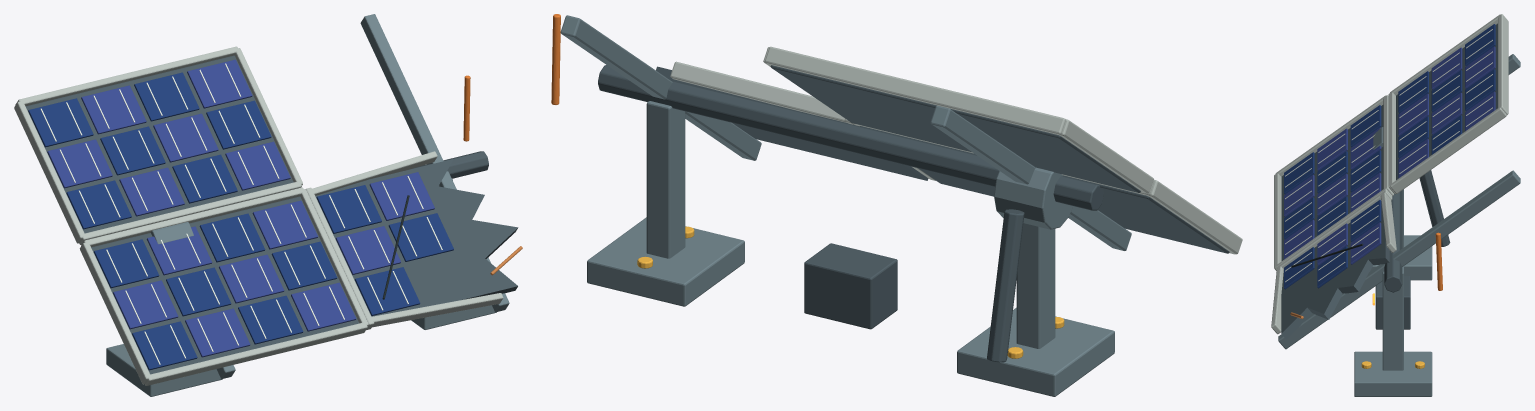
Rendered from solar_panel_rack_d2.glb.
3 renders of one model, left to right at view 1: azimuth 30°, elevation 25°; view 2: azimuth 150°, elevation 25°; view 3: azimuth 270°, elevation 25°, orthographic. The views are drawn at different scales.
Parts seen in each view (by area): view 1: JAGGED_PV_BACKING, PV_BACKING_001, PV_BACKING, REAR_MOUNTING_RAIL_001, PANEL_ALUMINUM_END_FRAME, PHOTOVOLTAIC_CELL_016, PHOTOVOLTAIC_CELL_010, PHOTOVOLTAIC_CELL_014, PHOTOVOLTAIC_CELL_019, PHOTOVOLTAIC_CELL_023, SURVIVING_PHOTOVOLTAIC_CELL_002, PHOTOVOLTAIC_CELL_001 (+36 smaller); view 2: TRACKING_AXLE, PV_BACKING_001, RACK_ANCHOR_FOOTING_001, RACK_ANCHOR_FOOTING, RACK_JUNCTION_BOX, TRACKING_SUPPORT_MAST_001, PANEL_ALUMINUM_END_FRAME_003, TRACKING_SUPPORT_MAST, REAR_MOUNTING_RAIL_001, PV_BACKING, REAR_MOUNTING_RAIL, TILT_ACTUATOR (+6 smaller); view 3: JAGGED_PV_BACKING, REAR_MOUNTING_RAIL_001, RACK_ANCHOR_FOOTING_001, TRACKING_SUPPORT_MAST_001, PANEL_ALUMINUM_SIDE_FRAME_004, TRACKING_AXLE, PV_BACKING, PANEL_ALUMINUM_END_FRAME_003, PV_BACKING_001, RACK_ANCHOR_FOOTING, TILT_ACTUATOR, RACK_JUNCTION_BOX (+39 smaller).
Part boxes in pixels (left/top/right/bottom): JAGGED_PV_BACKING: left=315, top=159, right=518, bottom=316; PV_BACKING_001: left=25, top=55, right=293, bottom=233; PV_BACKING: left=91, top=196, right=359, bottom=374; REAR_MOUNTING_RAIL_001: left=360, top=14, right=509, bottom=312; PANEL_ALUMINUM_END_FRAME: left=145, top=323, right=367, bottom=385; PHOTOVOLTAIC_CELL_016: left=100, top=126, right=165, bottom=175; PHOTOVOLTAIC_CELL_010: left=271, top=241, right=337, bottom=290; PHOTOVOLTAIC_CELL_014: left=28, top=98, right=93, bottom=147; PHOTOVOLTAIC_CELL_019: left=153, top=113, right=218, bottom=162; PHOTOVOLTAIC_CELL_023: left=187, top=59, right=252, bottom=108; SURVIVING_PHOTOVOLTAIC_CELL_002: left=316, top=185, right=381, bottom=233; PHOTOVOLTAIC_CELL_001: left=113, top=280, right=178, bottom=329; TRACKING_AXLE: left=598, top=65, right=1103, bottom=210; PV_BACKING_001: left=770, top=65, right=1140, bottom=192; RACK_ANCHOR_FOOTING_001: left=587, top=217, right=744, bottom=306; RACK_ANCHOR_FOOTING: left=957, top=307, right=1114, bottom=396; RACK_JUNCTION_BOX: left=804, top=243, right=897, bottom=329; TRACKING_SUPPORT_MAST_001: left=646, top=101, right=685, bottom=258; PANEL_ALUMINUM_END_FRAME_003: left=765, top=46, right=1065, bottom=134; TRACKING_SUPPORT_MAST: left=1016, top=223, right=1055, bottom=348; REAR_MOUNTING_RAIL_001: left=560, top=15, right=761, bottom=160; PV_BACKING: left=859, top=126, right=1229, bottom=253; REAR_MOUNTING_RAIL: left=930, top=105, right=1131, bottom=250; TILT_ACTUATOR: left=987, top=209, right=1024, bottom=362; JAGGED_PV_BACKING: left=1281, top=203, right=1389, bottom=339; REAR_MOUNTING_RAIL_001: left=1278, top=170, right=1520, bottom=349; RACK_ANCHOR_FOOTING_001: left=1354, top=351, right=1432, bottom=396; TRACKING_SUPPORT_MAST_001: left=1382, top=266, right=1403, bottom=370; PANEL_ALUMINUM_SIDE_FRAME_004: left=1390, top=107, right=1506, bottom=193; TRACKING_AXLE: left=1384, top=190, right=1402, bottom=292; PV_BACKING: left=1281, top=105, right=1383, bottom=260; PANEL_ALUMINUM_END_FRAME_003: left=1498, top=14, right=1508, bottom=114; PV_BACKING_001: left=1396, top=23, right=1497, bottom=179; RACK_ANCHOR_FOOTING: left=1370, top=235, right=1432, bottom=280; TILT_ACTUATOR: left=1419, top=170, right=1450, bottom=246; RACK_JUNCTION_BOX: left=1375, top=276, right=1410, bottom=329.
Size of the model in its own units: 4.57 by 2.59 by 2.71.
